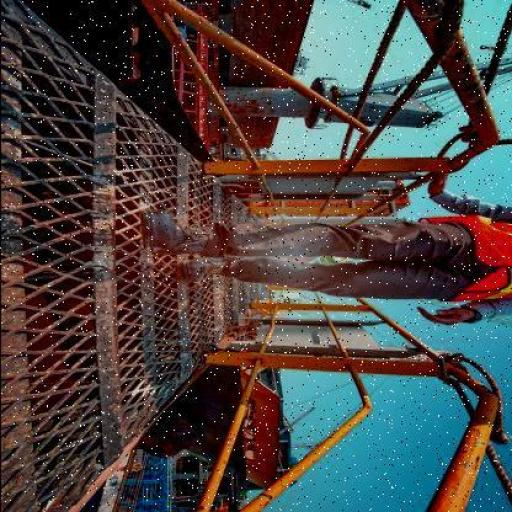safety_shoe: (138, 214, 208, 254), (178, 259, 226, 284)
